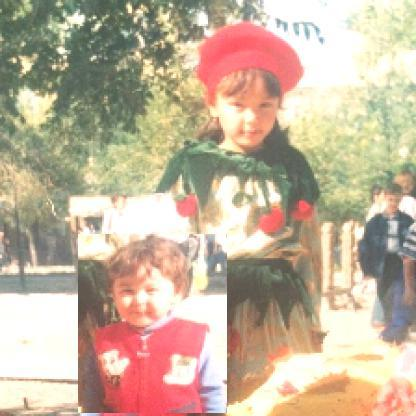child: (79, 235, 229, 415)
